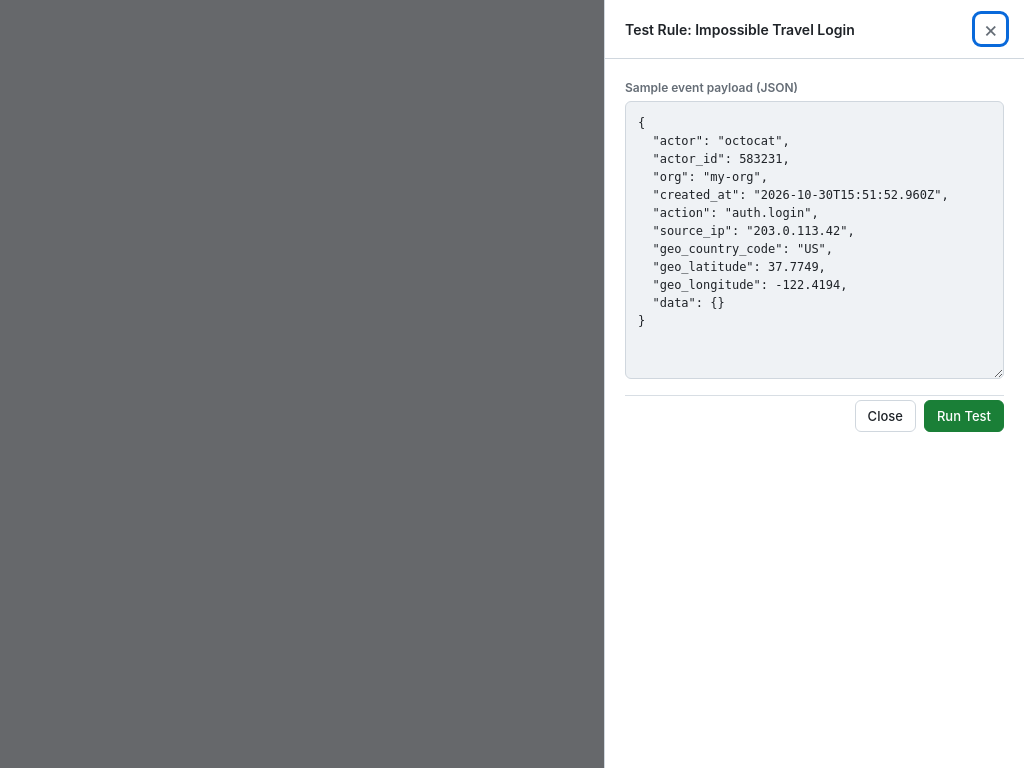
Test case: TestRuleModal › shows match result after successful test
Click the button "Run Test". click: [964, 416]
box: [924,400,1004,432]
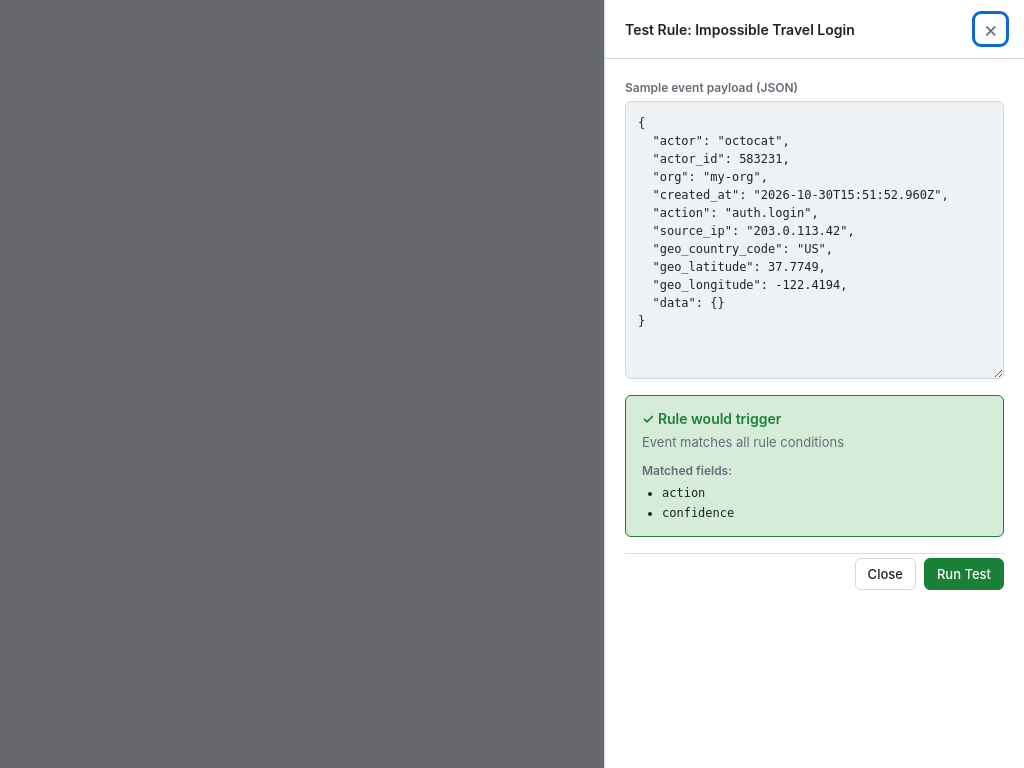
Result: the text "✓ Rule would trigger" is shown at [642,410,781,427]
Result: the text "Event matches all rule conditions" is shown at [642,434,844,450]
Result: the text "Matched fields:" is shown at [642,462,732,478]
